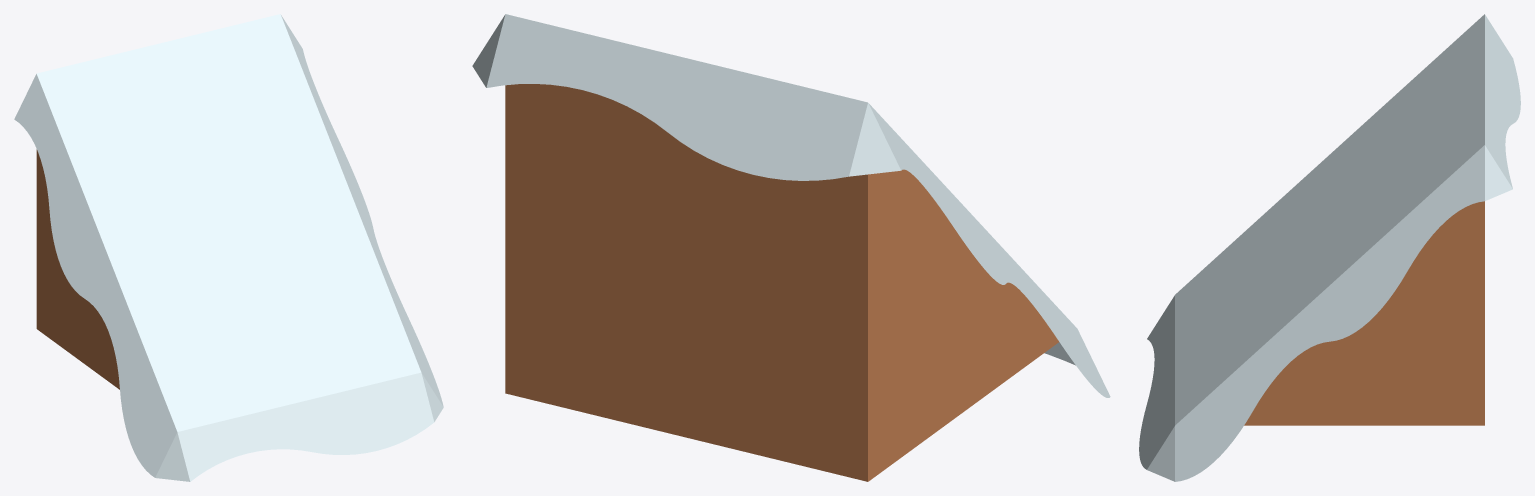
The model's file is blockSnowSlope.fbx.
3 views of the same model, side by side, from view 1: azimuth 30°, elevation 25°; view 2: azimuth 150°, elevation 25°; view 3: azimuth 270°, elevation 25° (orthographic). The views are drawn at different scales.
Visible parts, largest first — view 1: blockSnowSlope; view 2: blockSnowSlope; view 3: blockSnowSlope.
Part boxes in pixels (box(x1,y1,x2,y2)): blockSnowSlope: box(14, 14, 443, 481); blockSnowSlope: box(472, 14, 1110, 481); blockSnowSlope: box(1139, 14, 1520, 481).
Size of the model in its own units: 12.33 by 12.02 by 12.33.
